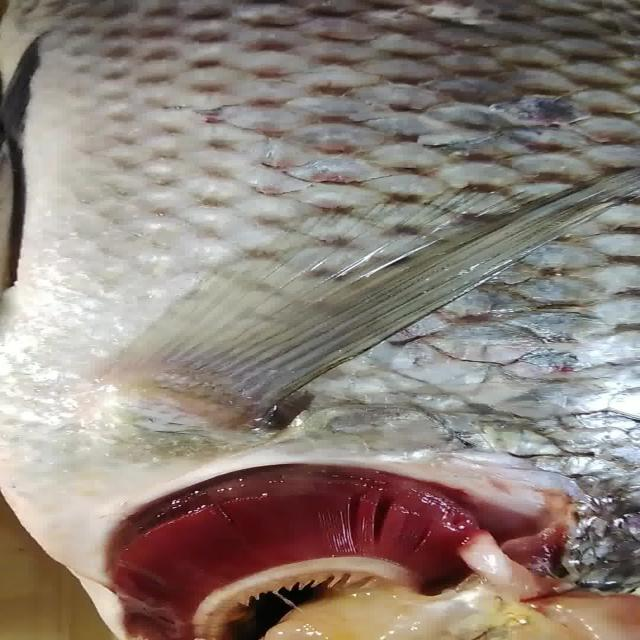Fresh: (65, 457, 581, 638)
